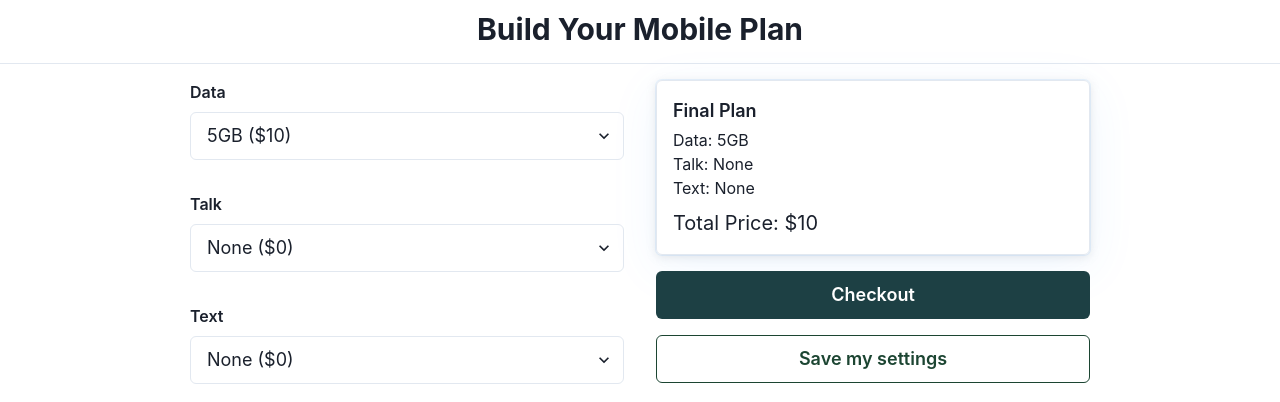
Scenario: Mobile Plan Builder › allows selecting options and displays the final price
Select "10GB ($20)" in the dropdown with test id "data-select". click: (407, 136)
box: x1=190 y1=112 x2=624 y2=160
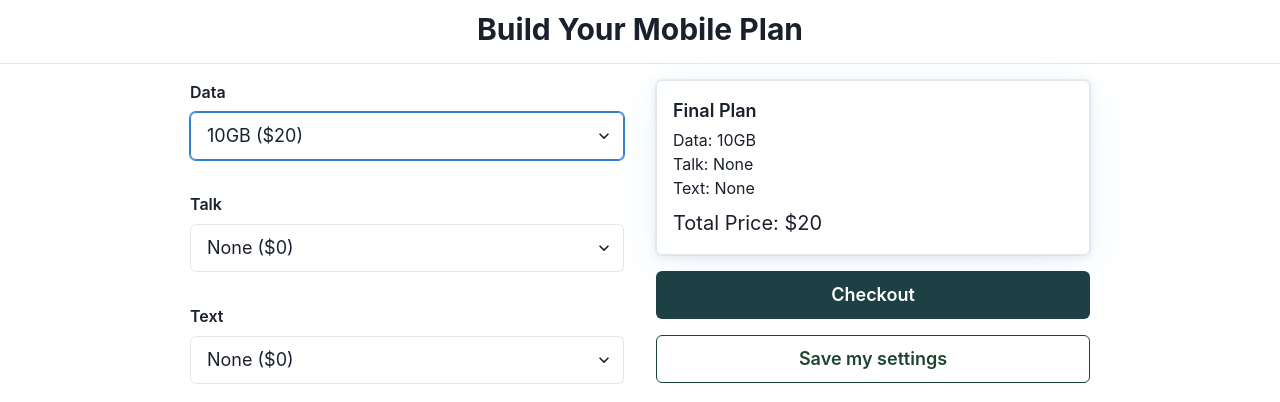
Select "100 mins ($5)" in the dropdown with test id "talk-select". click: (407, 248)
box: x1=190 y1=224 x2=624 y2=272
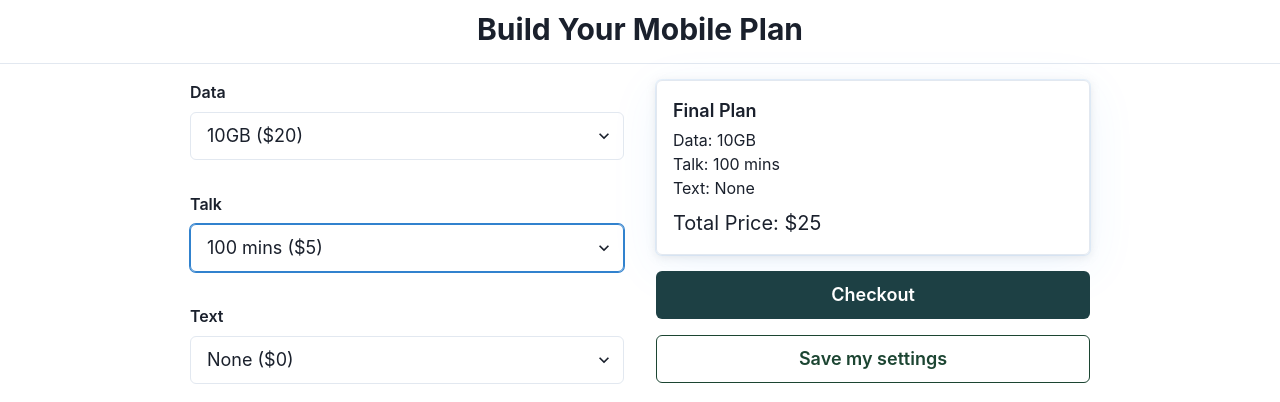
Select "500 texts ($3)" in the dropdown with test id "text-select". click: (407, 360)
box: x1=190 y1=336 x2=624 y2=384
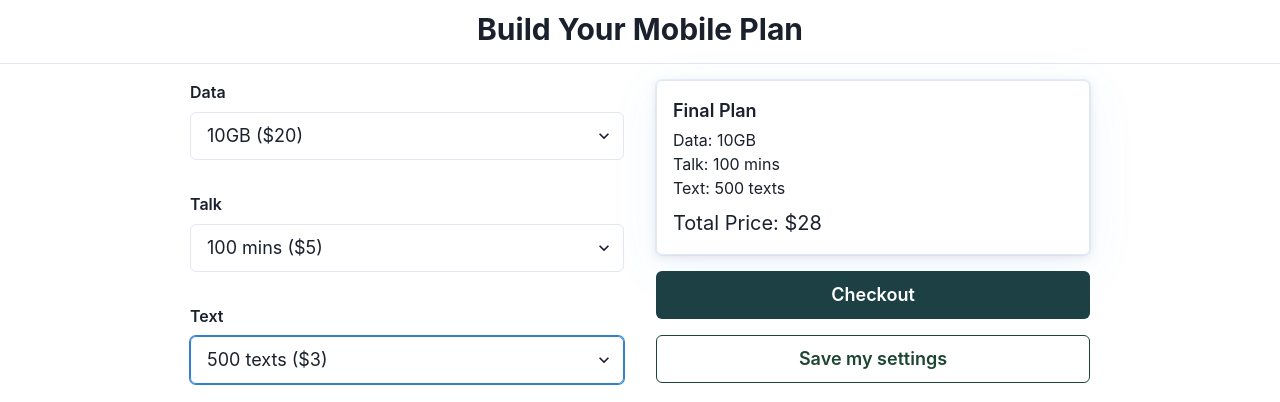
Now the text with test id "final-plan-card" reads "Data: 10GB", box x1=673 y1=130 x2=756 y2=150
Now the text with test id "final-plan-card" reads "Talk: 100 mins", box x1=673 y1=154 x2=780 y2=174
Now the text with test id "final-plan-card" reads "Text: 500 texts", box x1=673 y1=178 x2=785 y2=198
